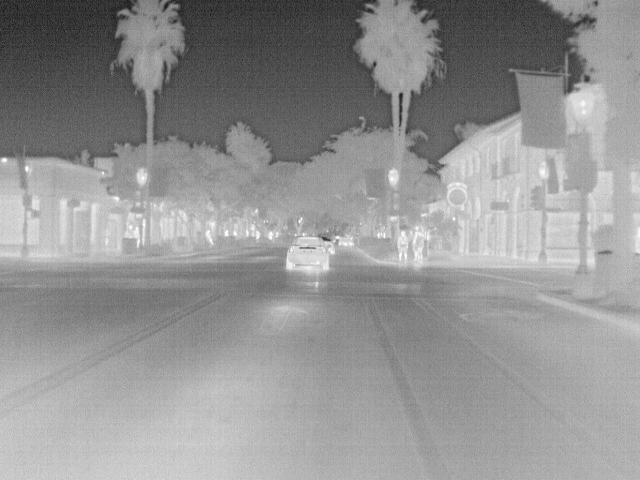car: (282, 234, 331, 275), (335, 232, 355, 250)
person: (411, 226, 426, 261), (396, 230, 412, 262), (130, 224, 143, 251)
